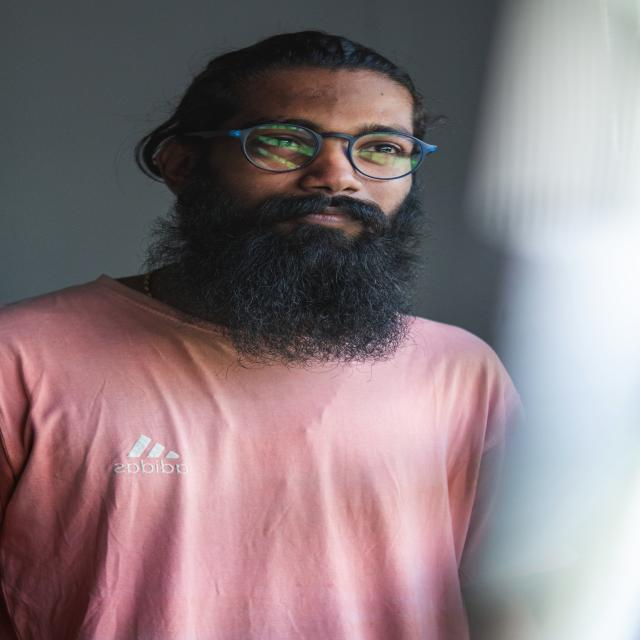adult: (0, 26, 506, 640)
